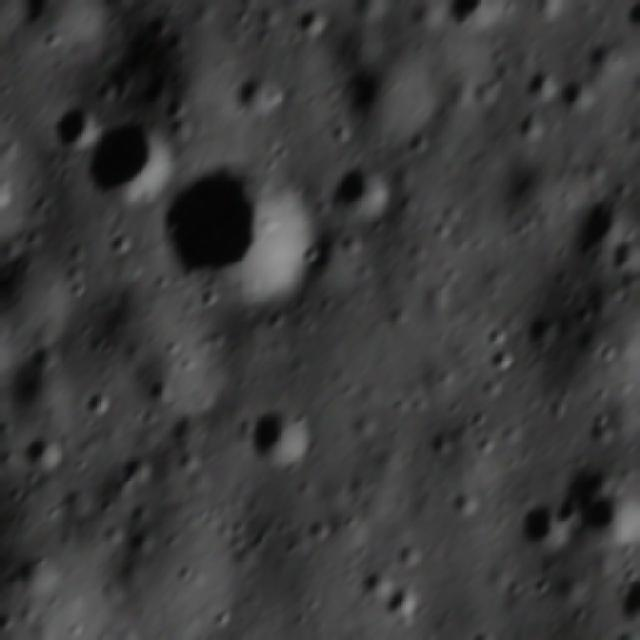crater: (159, 160, 324, 308), (0, 248, 83, 358), (0, 344, 82, 444), (332, 56, 432, 138), (89, 116, 178, 204), (571, 465, 640, 547), (248, 398, 320, 472), (330, 162, 396, 222), (571, 195, 634, 256), (228, 65, 294, 118), (520, 499, 565, 558), (60, 101, 105, 150), (513, 64, 562, 105), (22, 433, 68, 475), (384, 582, 428, 624), (436, 0, 501, 28), (614, 566, 640, 632), (559, 72, 593, 115), (604, 235, 640, 275), (354, 560, 389, 600), (586, 42, 619, 82), (483, 346, 519, 382), (515, 107, 547, 144), (105, 224, 132, 258), (617, 0, 640, 35), (607, 624, 640, 640), (0, 468, 8, 526), (466, 631, 502, 640)
